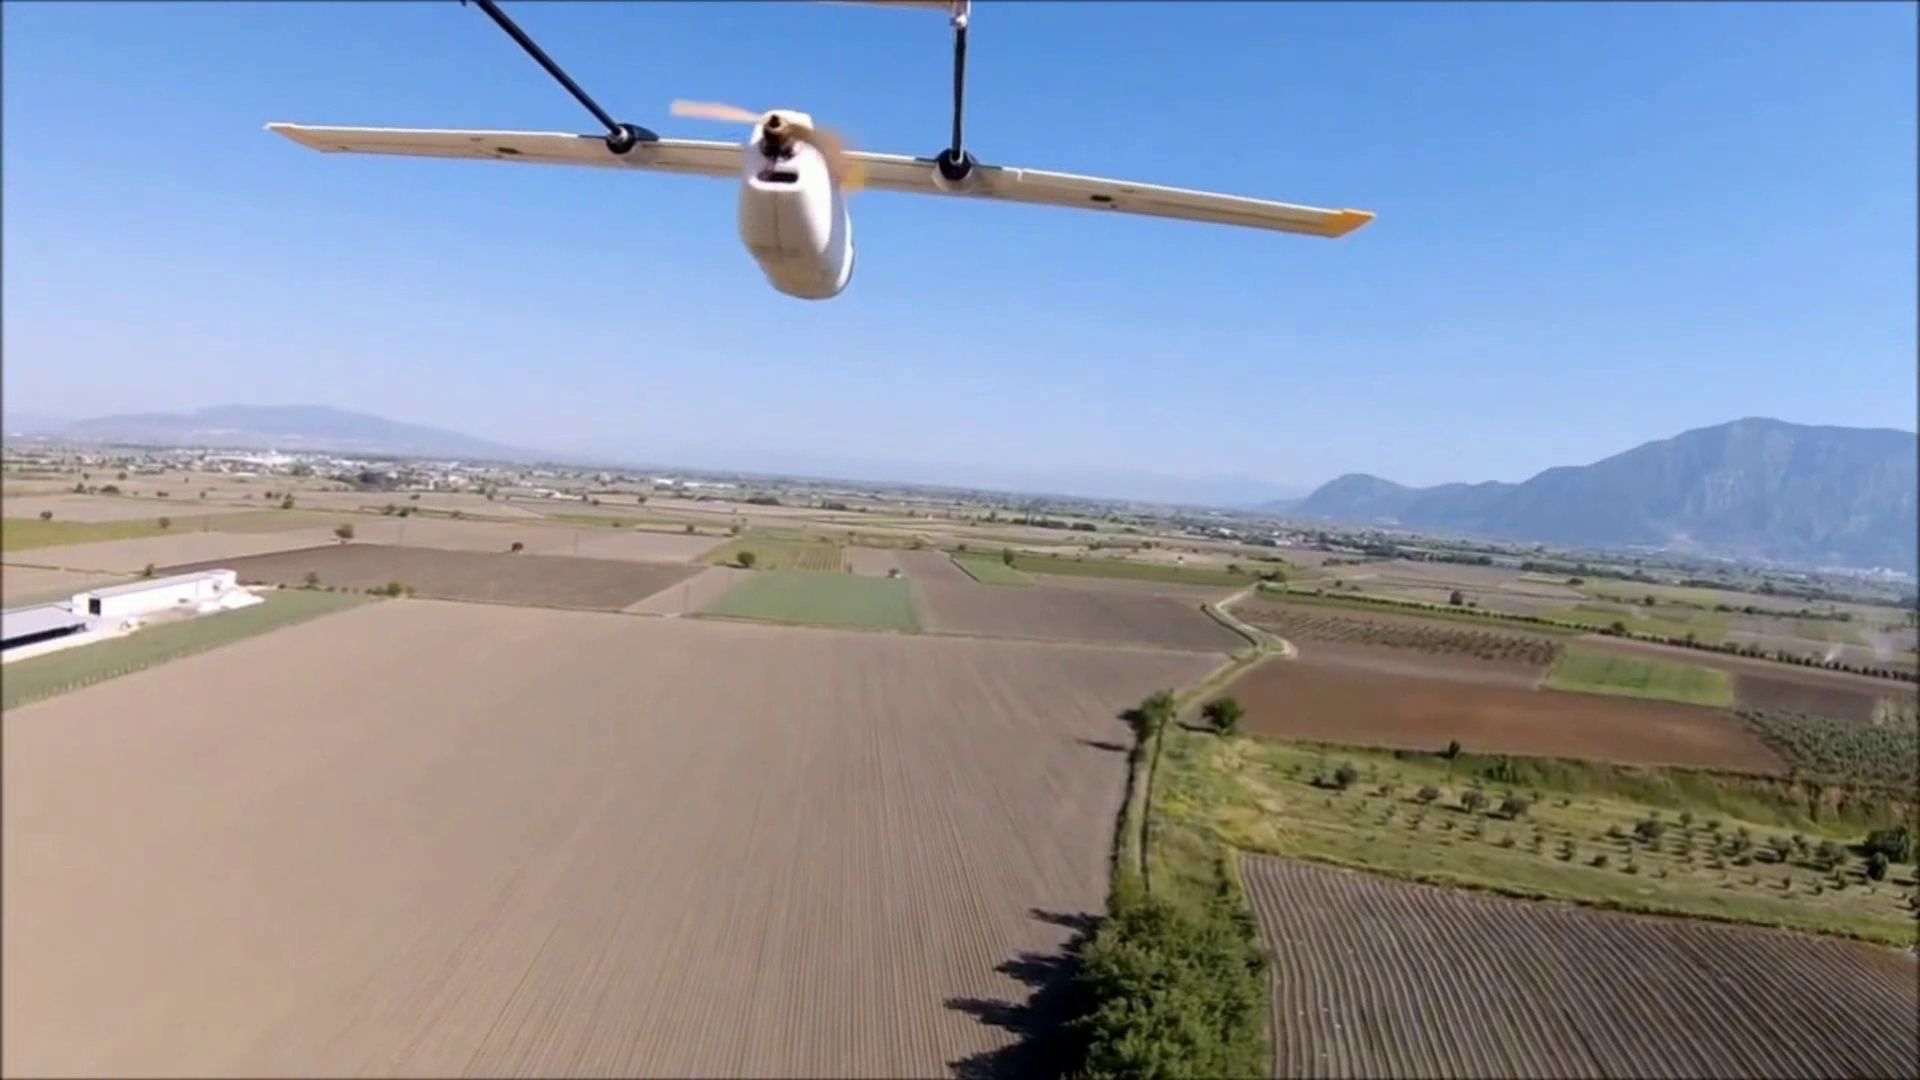airplane: (270, 3, 1371, 299)
